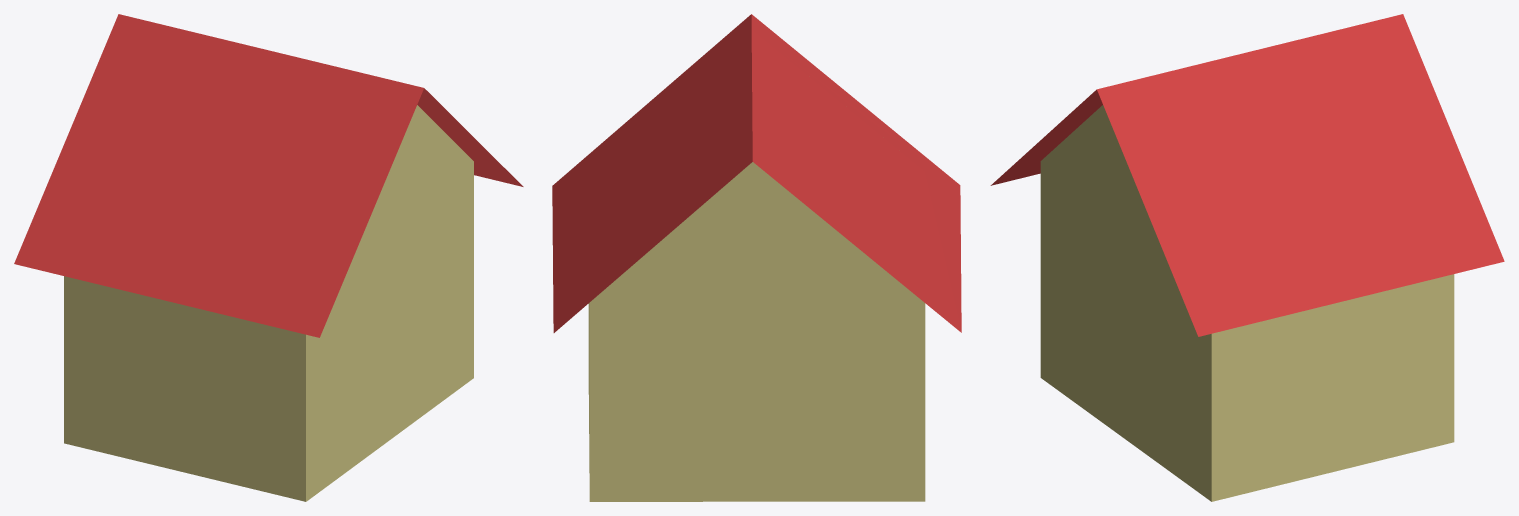
The picture shows the model from 3 angles, left to right: view 1: azimuth 30°, elevation 25°; view 2: azimuth 150°, elevation 25°; view 3: azimuth 270°, elevation 25°; orthographic projection.
Size of the model in its own units: 14.56 by 13.98 by 10.8.
